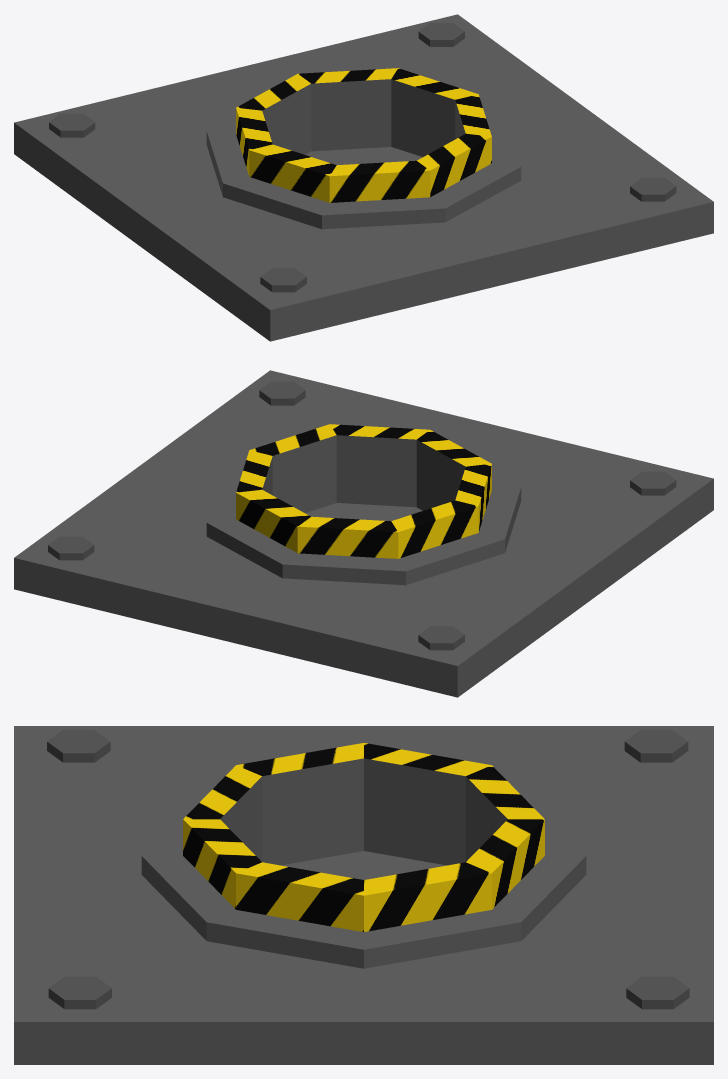
File: Pembuangan Air.fbx
3 views of the same model, one above another, from view 1: azimuth 30°, elevation 25°; view 2: azimuth 150°, elevation 25°; view 3: azimuth 270°, elevation 25° (orthographic). The views are drawn at different scales.
Visible parts, largest first — view 1: Pembuangan Air; view 2: Pembuangan Air; view 3: Pembuangan Air.
Boxes of the visible parts, box(x1,y1,x2,y2) form: Pembuangan Air: box(14, 14, 713, 341); Pembuangan Air: box(14, 370, 713, 697); Pembuangan Air: box(14, 726, 713, 1064).
Size of the model in its own units: 396 by 61 by 396.
